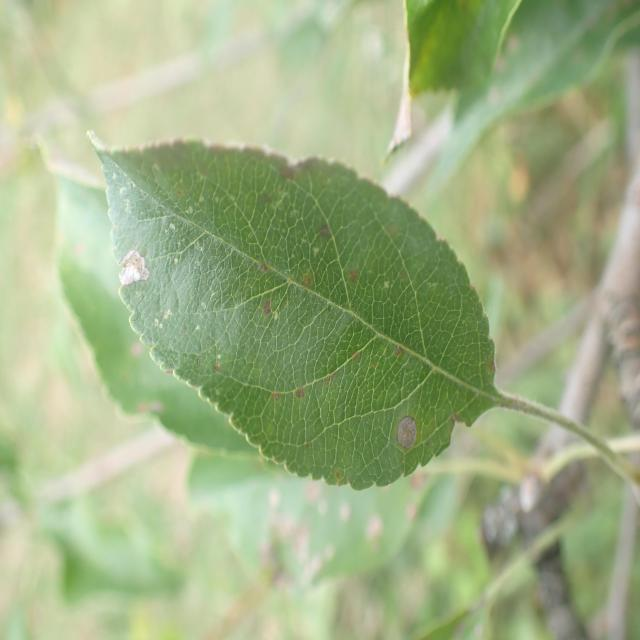frog-eye-leaf-spot: (89, 136, 498, 495)
